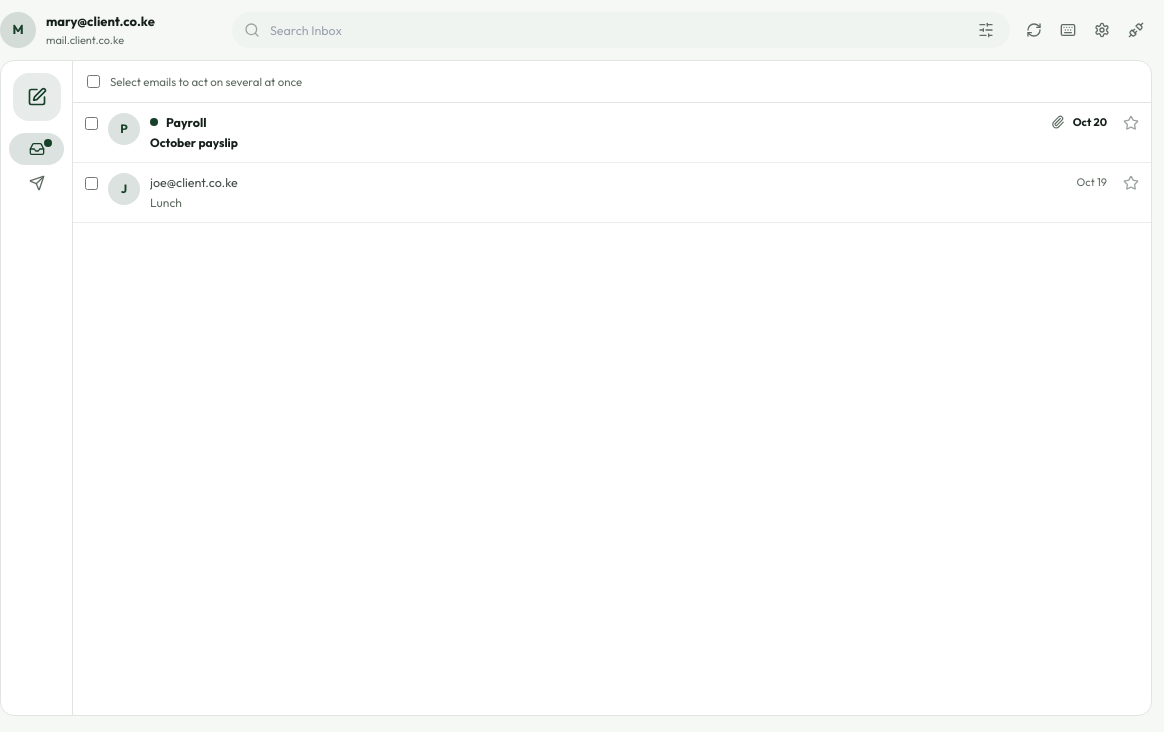
Test: reading › shows plain-text email as text, with web links that open in a new tab
Click the text "October payslip" at (194, 142), box left=150, top=135, right=238, bottom=150
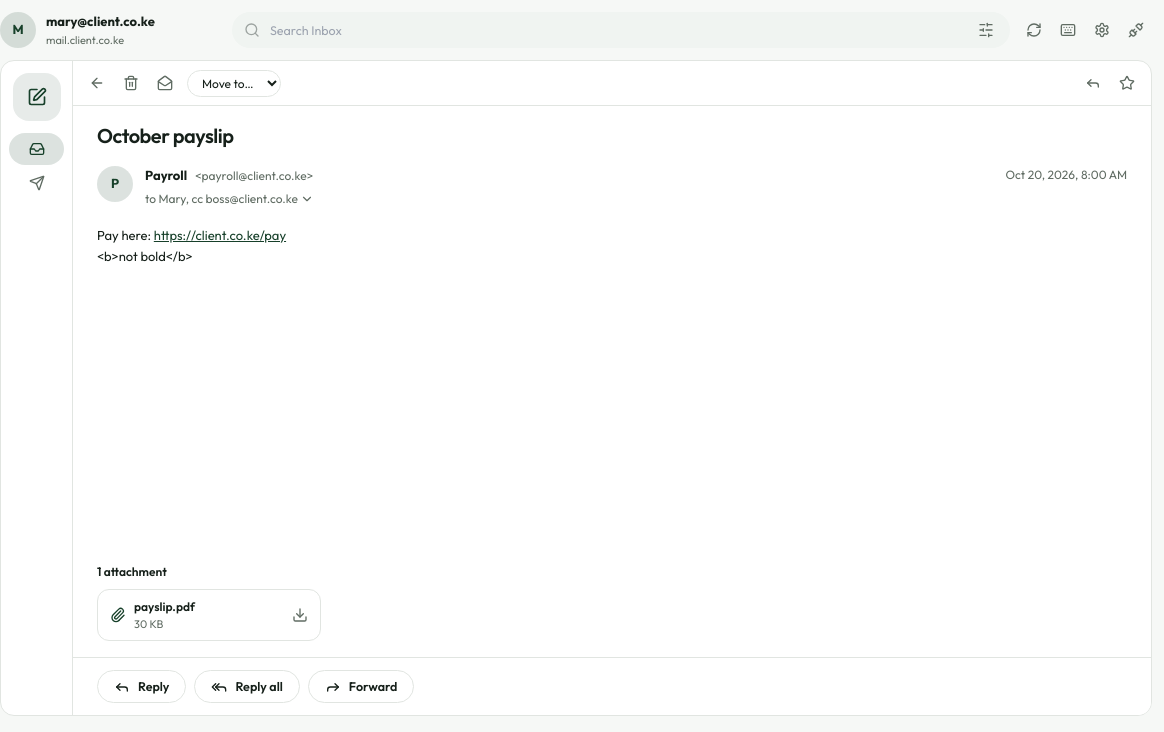
Check: the text "<b>not bold</b>" is shown, box left=97, top=248, right=192, bottom=264
